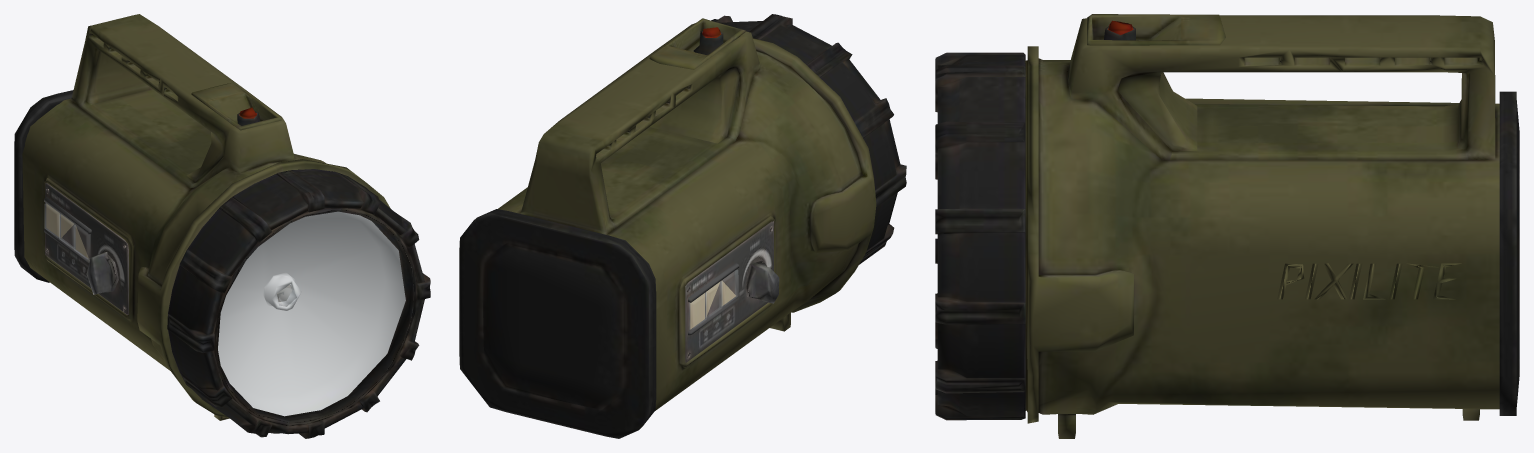
File: portable_searchlight.glb
3 views of the same model, side by side, from view 1: azimuth 30°, elevation 25°; view 2: azimuth 150°, elevation 25°; view 3: azimuth 270°, elevation 25° (orthographic). The views are drawn at different scales.
Visible parts, largest first — view 1: portable_searchlight, portable_searchlight_glass; view 2: portable_searchlight, portable_searchlight_glass; view 3: portable_searchlight.
Part boxes in pixels (bbox=[...]): portable_searchlight: bbox=[14, 14, 430, 438]; portable_searchlight_glass: bbox=[44, 203, 405, 415]; portable_searchlight: bbox=[459, 14, 906, 438]; portable_searchlight_glass: bbox=[689, 270, 738, 335]; portable_searchlight: bbox=[935, 14, 1519, 438].
Bounding box in the file's own units: 0.1653 × 0.1849 × 0.2534.
2 materials, 1 textured.
